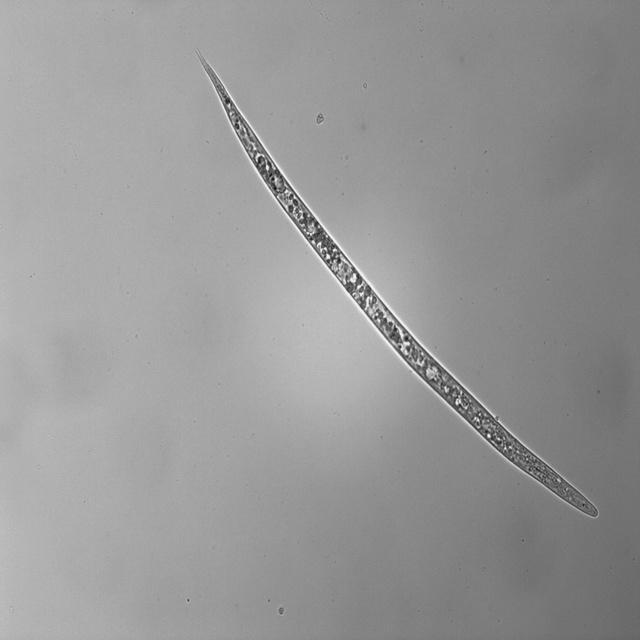Meloidogyne: (183, 43, 602, 520)
